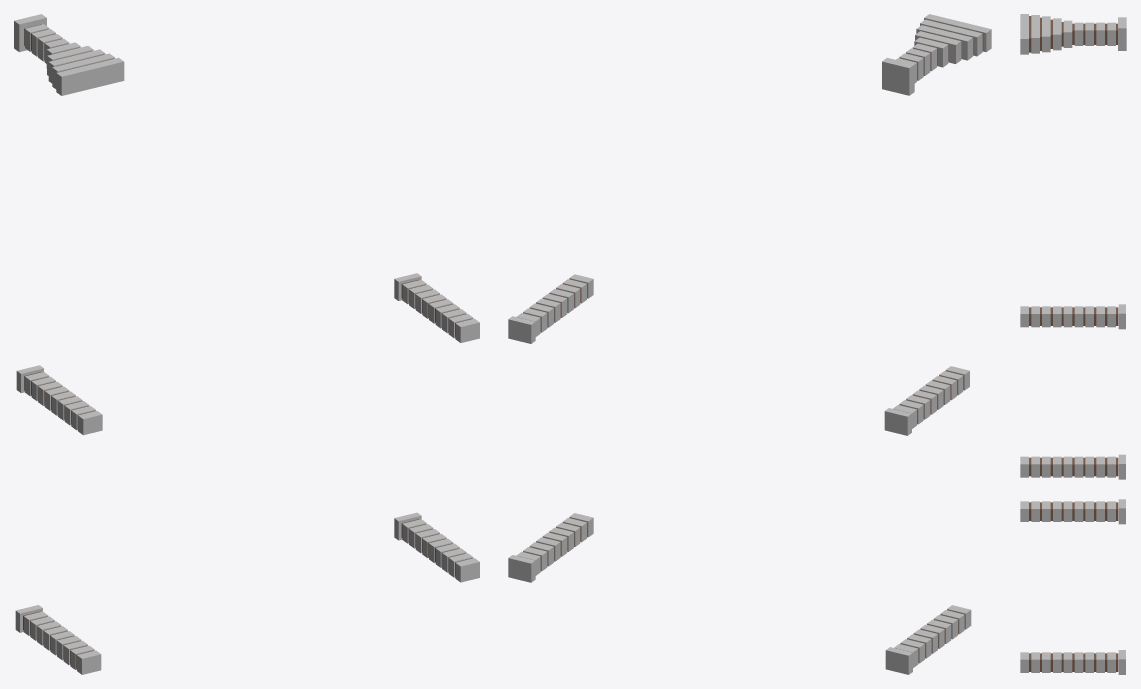
File: chimneys.dae
The picture shows the model from 3 angles, left to right: view 1: azimuth 30°, elevation 25°; view 2: azimuth 150°, elevation 25°; view 3: azimuth 270°, elevation 25°; orthographic projection. The views are drawn at different scales.
Parts seen in each view (by area): view 1: Cube.006; view 2: Cube.502; view 3: Cube.006, Cube.486, Cube.488, Cube.502, Cube.490, Cube.492, Cube.494, Cube.477, Cube.475, Cube.458, Cube.456, Cube.500 (+38 smaller).
Boxes of the visible parts, left/top/right/bottom form: Cube.006: left=56, top=57, right=124, bottom=95; Cube.502: left=882, top=57, right=914, bottom=95; Cube.006: left=1020, top=14, right=1028, bottom=54; Cube.486: left=1031, top=15, right=1039, bottom=53; Cube.488: left=1042, top=16, right=1050, bottom=52; Cube.502: left=1118, top=17, right=1126, bottom=50; Cube.490: left=1053, top=18, right=1061, bottom=50; Cube.492: left=1063, top=20, right=1072, bottom=47; Cube.494: left=1074, top=22, right=1083, bottom=45; Cube.477: left=1074, top=306, right=1083, bottom=327; Cube.475: left=1063, top=306, right=1072, bottom=327; Cube.458: left=1074, top=456, right=1083, bottom=477; Cube.456: left=1063, top=456, right=1072, bottom=477; Cube.500: left=1107, top=22, right=1115, bottom=45.
Bounding box in the file's own units: 70.12 × 18.8 × 97.1.
